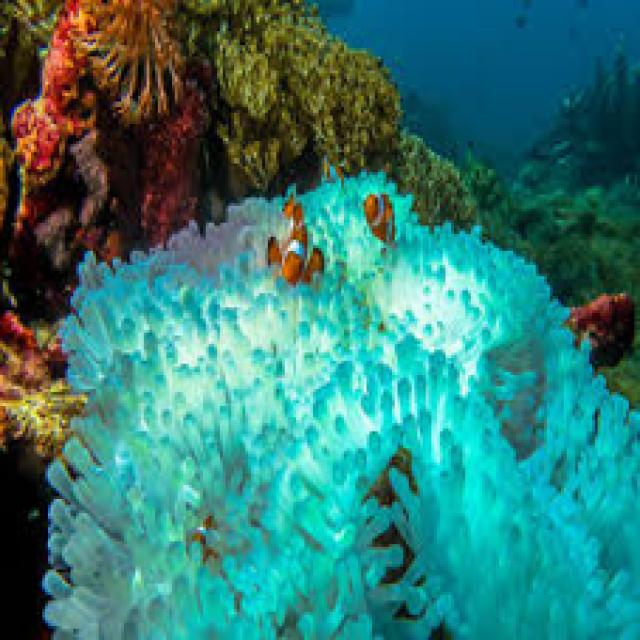Bleached: (46, 176, 638, 638)
Healthy: (184, 1, 472, 224), (12, 1, 204, 311)
